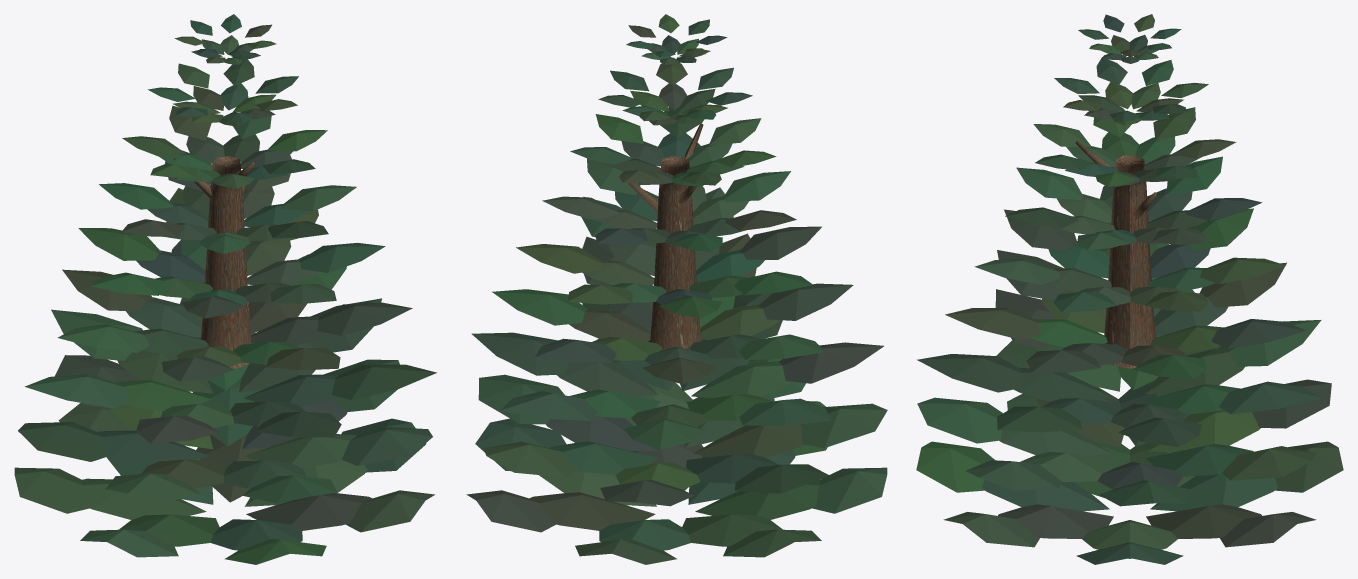
The model's file is valley-conifer-cr1.glb.
The picture shows the model from 3 angles, left to right: view 1: azimuth 30°, elevation 25°; view 2: azimuth 150°, elevation 25°; view 3: azimuth 270°, elevation 25°; orthographic projection.
Visible parts, largest first — view 1: ConiferCanopy, ConiferTrunk; view 2: ConiferCanopy, ConiferTrunk; view 3: ConiferCanopy, ConiferTrunk.
Boxes of the visible parts, x1,y1,x2,y2 form: ConiferCanopy: [14, 14, 436, 564]; ConiferTrunk: [173, 156, 254, 368]; ConiferCanopy: [466, 14, 887, 564]; ConiferTrunk: [628, 124, 703, 350]; ConiferCanopy: [916, 14, 1343, 564]; ConiferTrunk: [1075, 140, 1157, 368].
Bounding box in the file's own units: 4.34 × 5.41 × 4.39.
Materials: 2 (1 with a texture image).
